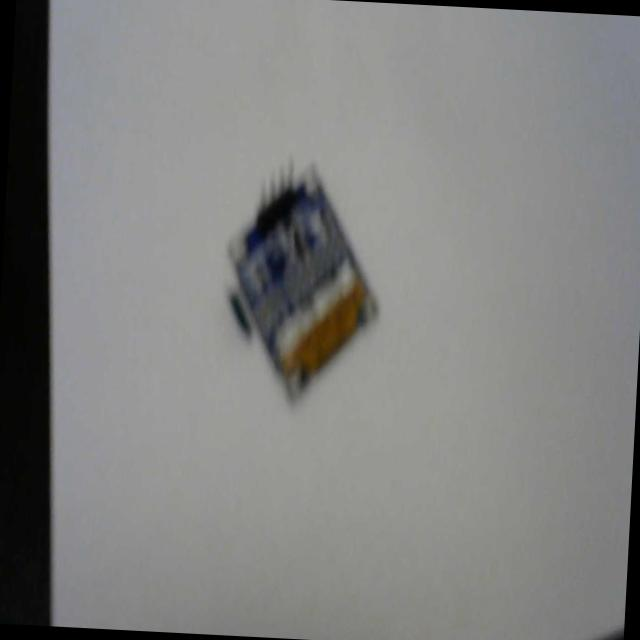oled: (217, 148, 390, 406)
